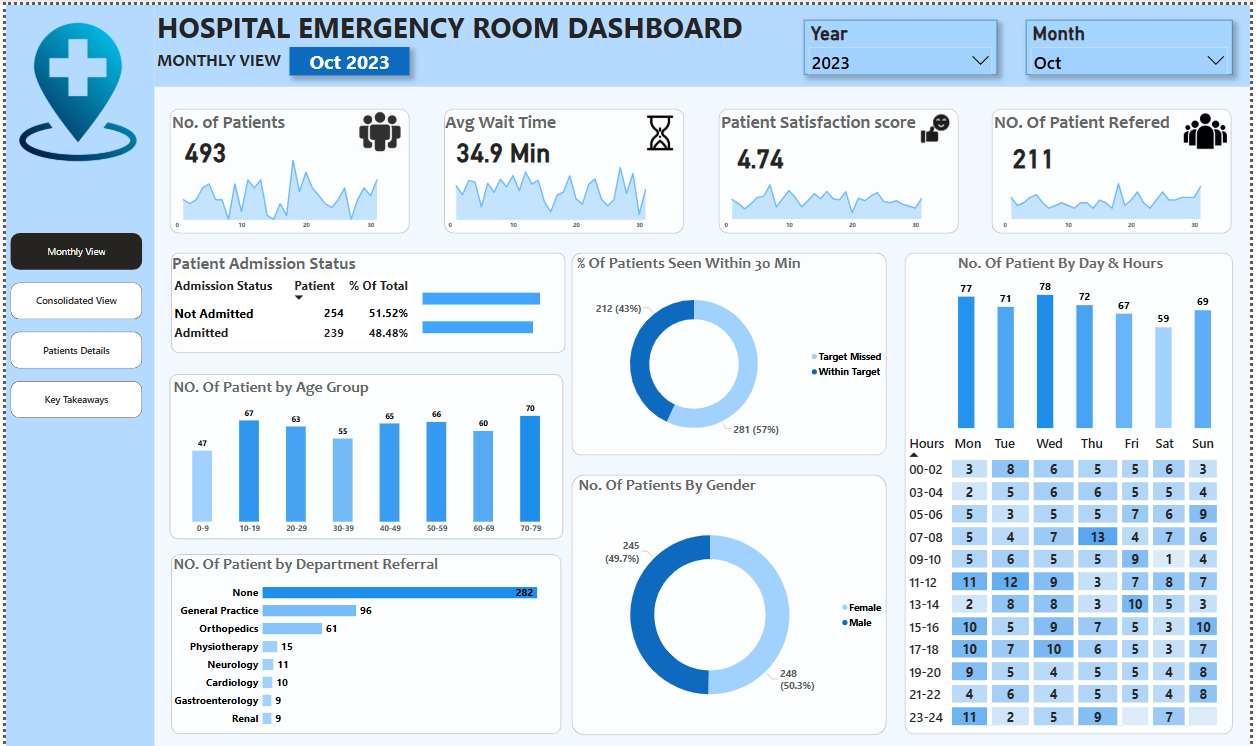

Layout of this report page (visuals, bound fields, positions):
{"tool":"powerbi","page":{"name":"Monthly View","canvas":[2600,1550],"ordinal":0},"visuals":[{"type":"shape","box":[341.6,216.1,502,261.4],"z":0},{"type":"shape","box":[914.5,216.1,502,261.4],"z":1000},{"type":"shape","box":[1487.3,216.1,502,261.4],"z":2000},{"type":"shape","box":[2060.1,216.1,502,261.4],"z":3000},{"type":"shape","box":[310.2,0,2290.2,170.8],"z":4000},{"type":"shape","box":[0,0,310.2,1551.2],"z":5000},{"type":"textbox","box":[310.2,0,1247.9,94.1],"z":6000},{"type":"textbox","box":[310.2,87.1,359,83.7],"z":7000},{"type":"card","fields":{"Values":["Hospital ER_Data.NO. Of Patient"]},"box":[341.6,258,149.9,90.6],"z":8000},{"type":"slicer","fields":{"Values":["Date Table.Month"]},"box":[2131,31,431,113.8],"z":9000},{"type":"textbox","box":[341.6,216.1,282.4,62.7],"z":10000},{"type":"areaChart","fields":{"Category":["Date Table.Date.Variation.Date Hierarchy.Day"],"Y":["Hospital ER_Data.NO. Of Patient"]},"box":[341.6,310.2,502,167.3],"z":11000},{"type":"card","fields":{"Values":["Min(Date Table.Month & Year)"]},"box":[592.6,87.1,251,59.3],"z":12000},{"type":"card","fields":{"Values":["Hospital ER_Data.Avg. Wait Time"]},"box":[934.2,258,209.2,90.6],"z":13000},{"type":"textbox","box":[913.3,216.1,251,62.7],"z":14000},{"type":"areaChart","fields":{"Category":["Date Table.Date.Variation.Date Hierarchy.Day"],"Y":["Avg(Hospital ER_Data.Patient Waittime)"]},"box":[913.3,310.2,491.5,167.3],"z":15000},{"type":"textbox","box":[1488.5,216.1,502,62.7],"z":16000},{"type":"card","fields":{"Values":["Hospital ER_Data.Satisfaction Score"]},"box":[1488.5,278.9,174.3,69.7],"z":17000},{"type":"areaChart","fields":{"Category":["Date Table.Date.Variation.Date Hierarchy.Day"],"Y":["Hospital ER_Data.Satisfaction Score"]},"box":[1488.5,348.6,491.5,129],"z":18000},{"type":"textbox","box":[2060.1,216.1,502,62.7],"z":19000},{"type":"card","fields":{"Values":["Hospital ER_Data.No. Of Patient Referred"]},"box":[2060.1,278.9,174.3,69.7],"z":20000},{"type":"shape","box":[344.8,517.2,824.1,210.3],"z":21000},{"type":"shape","box":[341.6,770.4,822.7,345.1],"z":22000},{"type":"areaChart","fields":{"Category":["Date Table.Date.Variation.Date Hierarchy.Day"],"Y":["Hospital ER_Data.No. Of Patient Referred"]},"box":[2070.6,348.6,491.5,129],"z":23000},{"type":"pivotTable","title":"Patient Admission Status","fields":{"Rows":["Hospital ER_Data.Admission Status"],"Values":["Hospital ER_Data.NO. Of Patient1","Hospital ER_Data.NO. Of Patient"]},"box":[341.6,515.9,543.8,264.9],"z":24000},{"type":"barChart","fields":{"Category":["Hospital ER_Data.Admission Status"],"Y":["Hospital ER_Data.NO. Of Patient"]},"box":[864.5,557.7,299.8,167.3],"z":25000},{"type":"clusteredColumnChart","fields":{"Category":["Hospital ER_Data.Age Group"],"Y":["Hospital ER_Data.NO. Of Patient"]},"box":[344.8,775.9,817.2,337.9],"z":26000},{"type":"shape","box":[1182.8,517.2,658.6,424.1],"z":27000},{"type":"shape","box":[345.1,1146.8,815.7,376.5],"z":28000},{"type":"clusteredBarChart","fields":{"Category":["Hospital ER_Data.Department Referral"],"Y":["Hospital ER_Data.NO. Of Patient"]},"box":[344.8,1148.3,813.8,375.9],"z":29000},{"type":"shape","box":[1182.8,979.3,658.6,544.8],"z":30000},{"type":"donutChart","title":"% Of Patients Seen Within 30 Min","fields":{"Category":["Hospital ER_Data.Wait Time"],"Y":["Hospital ER_Data.NO. Of Patient"]},"box":[1186.2,517.2,655.2,424.1],"z":31000},{"type":"donutChart","title":"No. Of Patients By Gender","fields":{"Y":["Hospital ER_Data.NO. Of Patient"],"Category":["Hospital ER_Data.Patient Gender"]},"box":[1189.7,979.3,651.7,544.8],"z":32000},{"type":"shape","box":[1875.9,517.2,686.2,1006.9],"z":33000},{"type":"pivotTable","fields":{"Columns":["Date Table.Day Name"],"Rows":["Hospital ER_Data.WaitTime Intervel"],"Values":["Hospital ER_Data.NO. Of Patient"]},"box":[1875.9,889.7,686.2,634.5],"z":34000},{"type":"columnChart","title":"No. Of Patient By Day & Hours","fields":{"Category":["Date Table.Day Name"],"Y":["Hospital ER_Data.NO. Of Patient"]},"box":[1982.8,517.2,541.4,372.4],"z":35000},{"type":"slicer","fields":{"Values":["Date Table.Year"]},"box":[1665.5,31,403.4,113.8],"z":36000},{"type":"image","box":[0,31,300,300],"z":37000},{"type":"image","box":[717.2,217.2,127.6,96.6],"z":38000},{"type":"image","box":[1317.2,224.1,100,82.8],"z":39000},{"type":"image","box":[1889.7,213.8,103.4,89.7],"z":40000},{"type":"image","box":[2451.7,213.8,110.3,100],"z":41000},{"type":"pageNavigator","box":[10.5,477.6,275.4,386.9],"z":41001}]}

Visuals, with their boxes in screenshot pixels (x1, y1, x2, y2), scaled from the page's 2600x1550 canvas onto the 1256x746 screenshot:
shape: select_region(165, 104, 408, 230)
shape: select_region(442, 104, 684, 230)
shape: select_region(718, 104, 961, 230)
shape: select_region(995, 104, 1238, 230)
shape: select_region(150, 0, 1255, 82)
shape: select_region(0, 0, 150, 745)
textbox: select_region(150, 0, 753, 45)
textbox: select_region(150, 42, 323, 82)
card - Hospital ER_Data.NO. Of Patient: select_region(165, 124, 237, 168)
slicer - Date Table.Month: select_region(1029, 15, 1238, 70)
textbox: select_region(165, 104, 301, 134)
areaChart - Date Table.Date.Variation.Date Hierarchy.Day x Hospital ER_Data.NO. Of Patient: select_region(165, 149, 408, 230)
card - Min(Date Table.Month & Year): select_region(286, 42, 408, 70)
card - Hospital ER_Data.Avg. Wait Time: select_region(451, 124, 552, 168)
textbox: select_region(441, 104, 562, 134)
areaChart - Date Table.Date.Variation.Date Hierarchy.Day x Avg(Hospital ER_Data.Patient Waittime): select_region(441, 149, 679, 230)
textbox: select_region(719, 104, 962, 134)
card - Hospital ER_Data.Satisfaction Score: select_region(719, 134, 803, 168)
areaChart - Date Table.Date.Variation.Date Hierarchy.Day x Hospital ER_Data.Satisfaction Score: select_region(719, 168, 956, 230)
textbox: select_region(995, 104, 1238, 134)
card - Hospital ER_Data.No. Of Patient Referred: select_region(995, 134, 1079, 168)
shape: select_region(167, 249, 565, 350)
shape: select_region(165, 371, 562, 537)
areaChart - Date Table.Date.Variation.Date Hierarchy.Day x Hospital ER_Data.No. Of Patient Referred: select_region(1000, 168, 1238, 230)
"Patient Admission Status" pivotTable: select_region(165, 248, 428, 376)
barChart - Hospital ER_Data.Admission Status x Hospital ER_Data.NO. Of Patient: select_region(418, 268, 562, 349)
clusteredColumnChart - Hospital ER_Data.Age Group x Hospital ER_Data.NO. Of Patient: select_region(167, 373, 561, 536)
shape: select_region(571, 249, 890, 453)
shape: select_region(167, 552, 561, 733)
clusteredBarChart - Hospital ER_Data.Department Referral x Hospital ER_Data.NO. Of Patient: select_region(167, 553, 560, 734)
shape: select_region(571, 471, 890, 734)
"% Of Patients Seen Within 30 Min" donutChart: select_region(573, 249, 890, 453)
"No. Of Patients By Gender" donutChart: select_region(575, 471, 890, 734)
shape: select_region(906, 249, 1238, 734)
pivotTable - Date Table.Day Name x Hospital ER_Data.WaitTime Intervel: select_region(906, 428, 1238, 734)
"No. Of Patient By Day & Hours" columnChart: select_region(958, 249, 1219, 428)
slicer - Date Table.Year: select_region(805, 15, 999, 70)
image: select_region(0, 15, 145, 159)
image: select_region(346, 105, 408, 151)
image: select_region(636, 108, 685, 148)
image: select_region(913, 103, 963, 146)
image: select_region(1184, 103, 1238, 151)
pageNavigator: select_region(5, 230, 138, 416)
